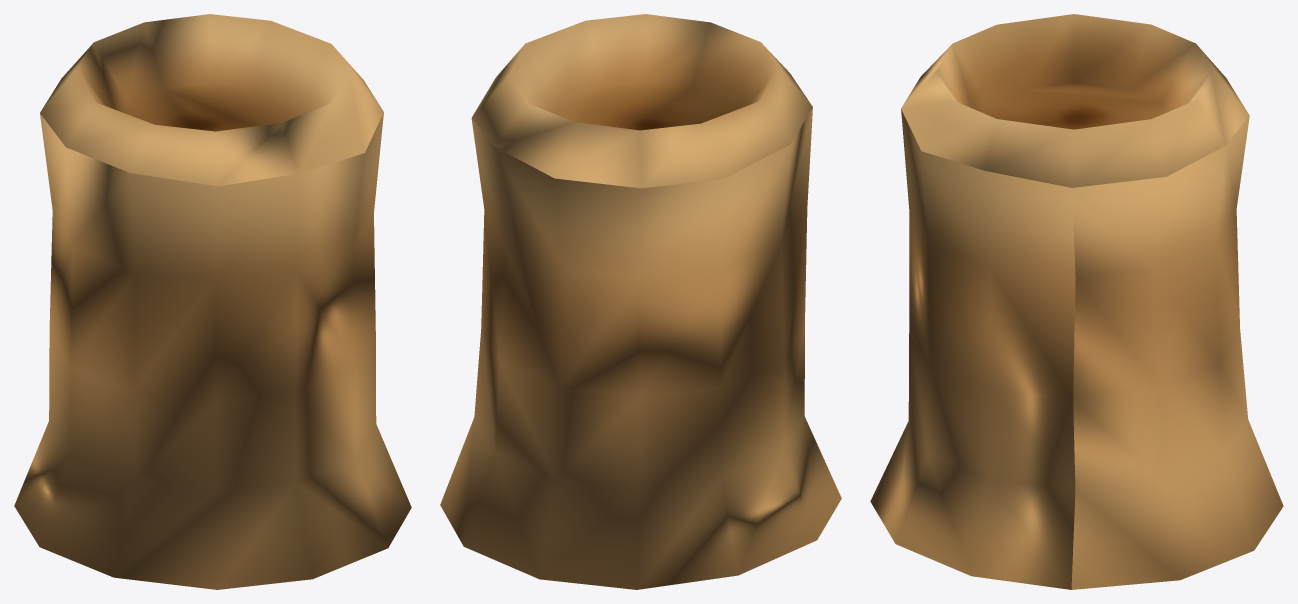
Rendered from FloorDeco1B-006_02_23_6187.fbx.
The picture shows the model from 3 angles, left to right: view 1: azimuth 30°, elevation 25°; view 2: azimuth 150°, elevation 25°; view 3: azimuth 270°, elevation 25°; orthographic projection.
Visible parts, largest first — view 1: PropCandles1 (2); view 2: PropCandles1 (2); view 3: PropCandles1 (2).
Boxes of the visible parts, x1,y1,x2,y2 form: PropCandles1 (2): [14, 14, 411, 589]; PropCandles1 (2): [440, 14, 841, 589]; PropCandles1 (2): [870, 14, 1283, 589].
Size of the model in its own units: 0.561 by 0.6714 by 0.5788.
